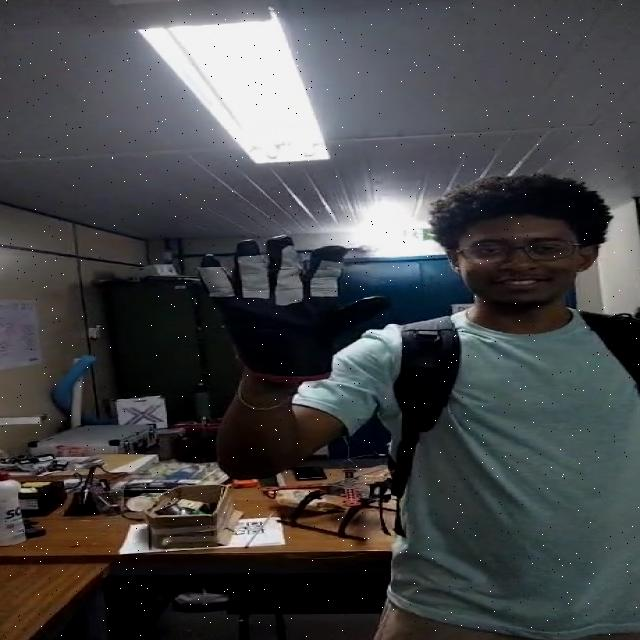Gloves: (189, 232, 384, 386)
